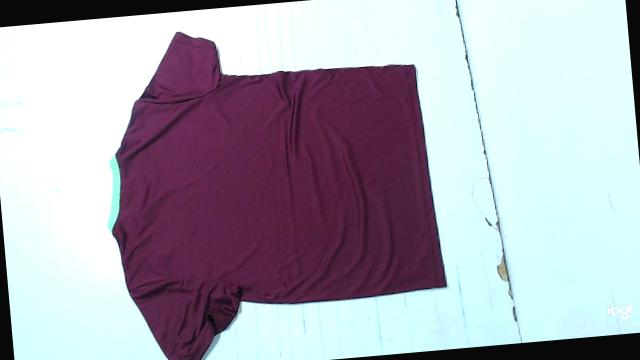new-garment: (110, 33, 446, 360)
